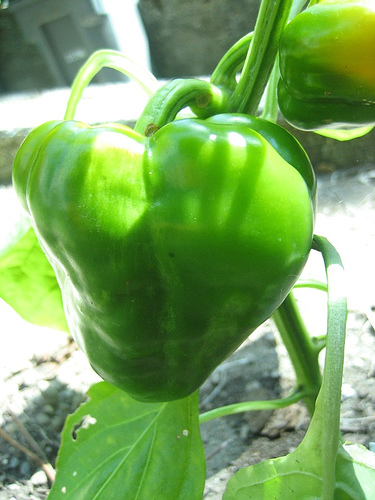capsicum: (7, 71, 321, 406), (277, 6, 371, 127)
